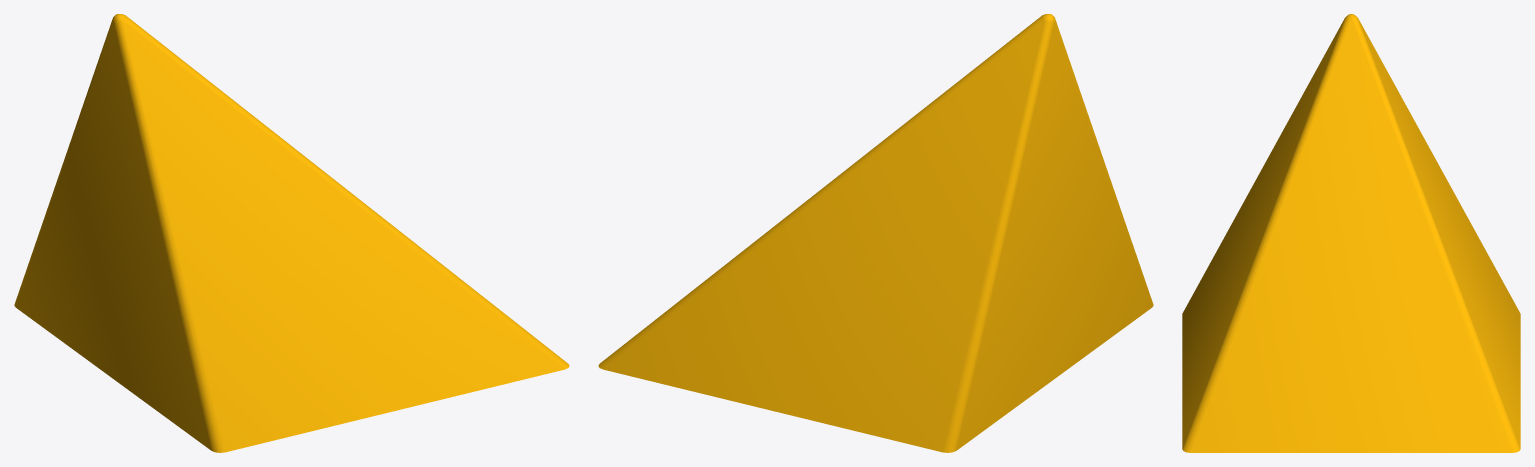
Rendered from Raised_Side_Middle.fbx.
3 renders of one model, left to right at view 1: azimuth 30°, elevation 25°; view 2: azimuth 150°, elevation 25°; view 3: azimuth 270°, elevation 25°, orthographic. The views are drawn at different scales.
Visible parts, largest first — view 1: Raised_Side_Middle; view 2: Raised_Side_Middle; view 3: Raised_Side_Middle.
Boxes of the visible parts, box(x1,y1,x2,y2) form: Raised_Side_Middle: box(14, 14, 569, 452); Raised_Side_Middle: box(598, 14, 1153, 452); Raised_Side_Middle: box(1182, 14, 1520, 452).
Bounding box in the file's own units: 1 × 0.9729 × 1.
